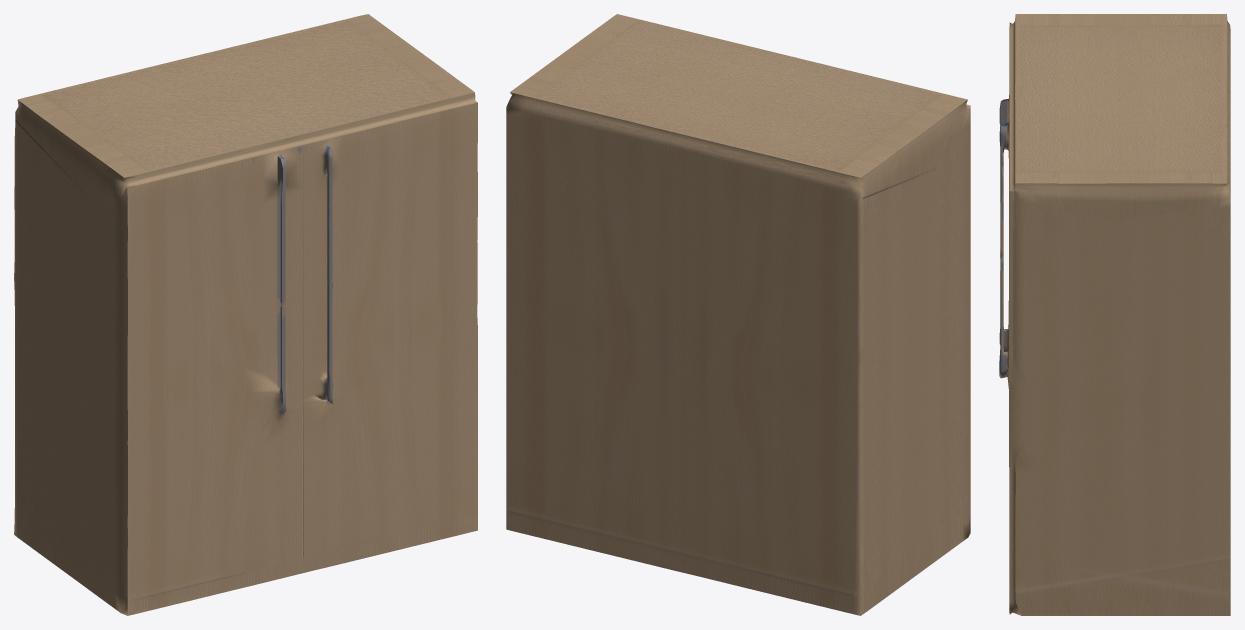
File: 05-wall-cabinet.glb
3 renders of one model, left to right at view 1: azimuth 30°, elevation 25°; view 2: azimuth 150°, elevation 25°; view 3: azimuth 270°, elevation 25°, orthographic.
Visible parts, largest first — view 1: Mesh_0; view 2: Mesh_0; view 3: Mesh_0.
Part boxes in pixels (bbox=[...]): Mesh_0: bbox=[14, 14, 477, 615]; Mesh_0: bbox=[506, 14, 970, 615]; Mesh_0: bbox=[999, 14, 1230, 615].
Size of the model in its own units: 1.62 by 1.9 by 0.9228.
1 material, 1 textured.
